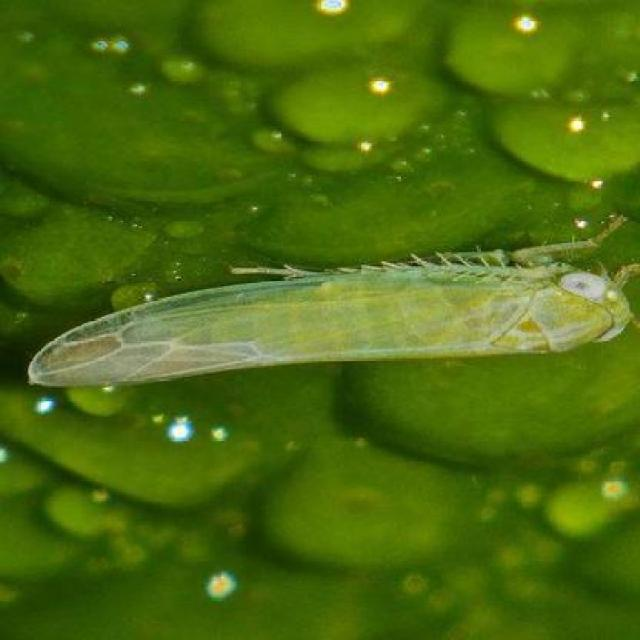green-leafhopper: (29, 224, 636, 384)
